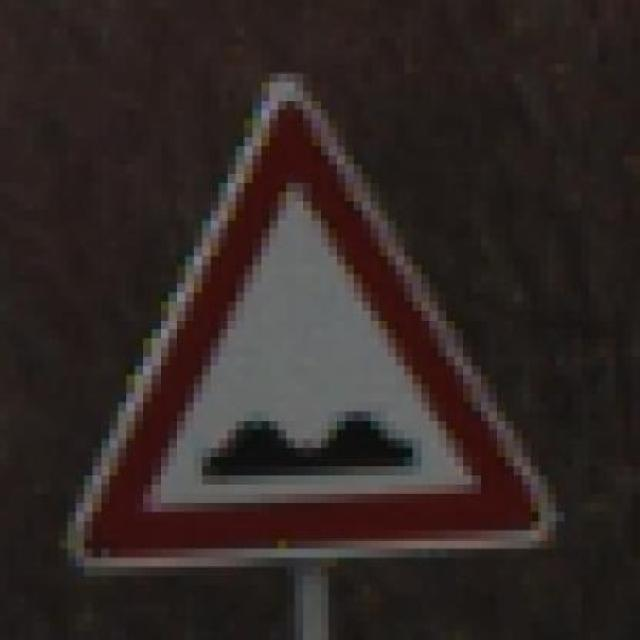Uneven Road: (76, 64, 556, 576)
